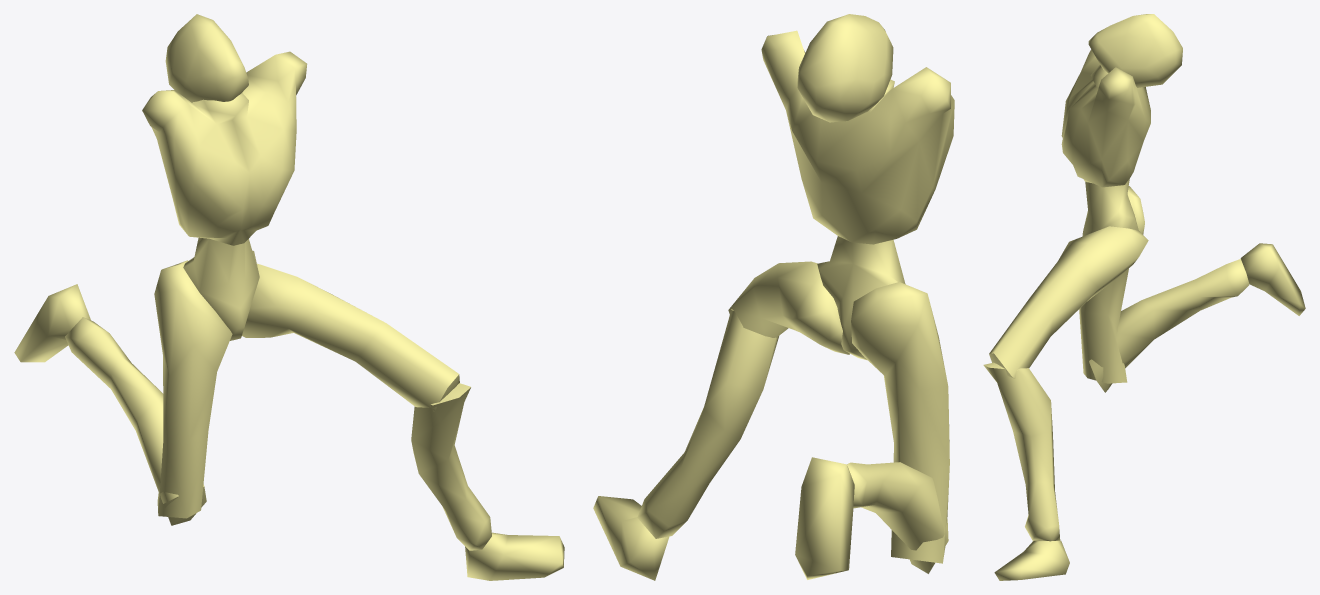
The model's file is filth0.obj.
The picture shows the model from 3 angles, left to right: view 1: azimuth 30°, elevation 25°; view 2: azimuth 150°, elevation 25°; view 3: azimuth 270°, elevation 25°; orthographic projection. The views are drawn at different scales.
Parts seen in each view (by area): view 1: Melee_Husk; view 2: Melee_Husk; view 3: Melee_Husk.
Boxes of the visible parts, bbox=[...] form: Melee_Husk: bbox=[14, 14, 564, 580]; Melee_Husk: bbox=[593, 14, 954, 580]; Melee_Husk: bbox=[983, 14, 1305, 580].
Bounding box in the file's own units: 46.44 × 66.55 × 41.12.
